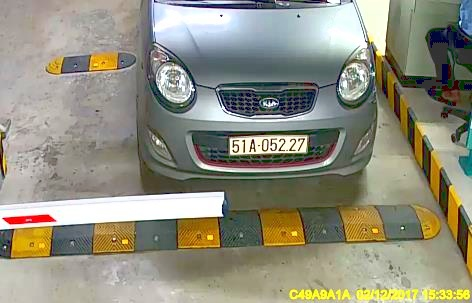plate: (226, 134, 307, 155)
